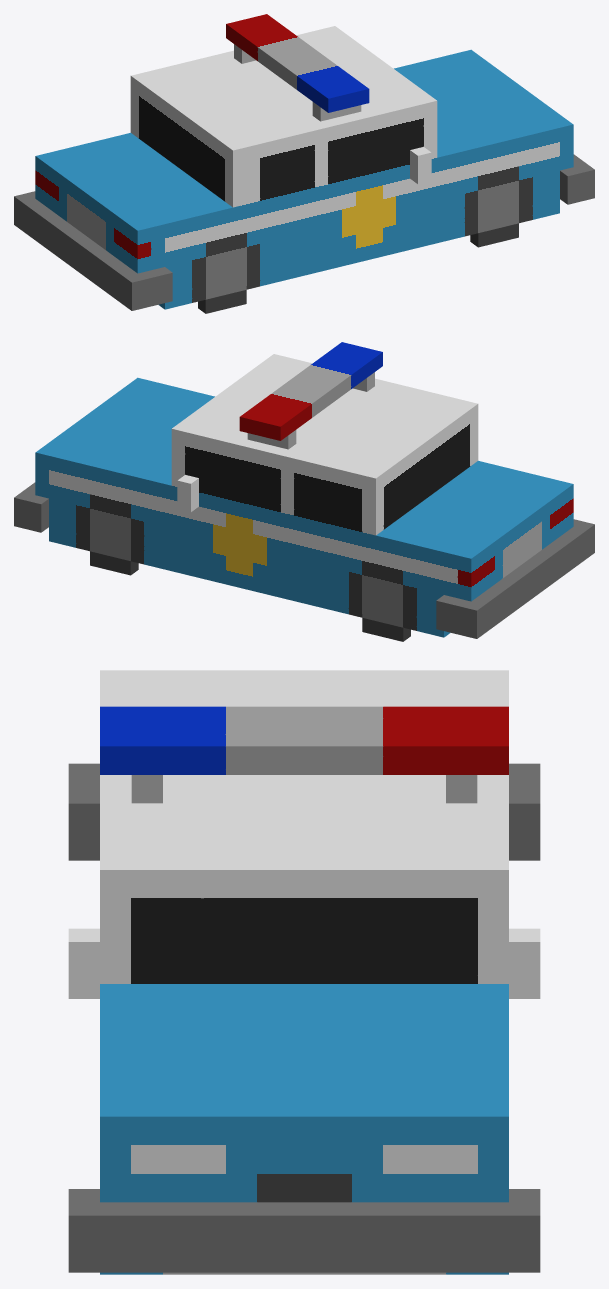
File: veh_police1.fbx
3 renders of one model, top to bottom at view 1: azimuth 30°, elevation 25°; view 2: azimuth 150°, elevation 25°; view 3: azimuth 270°, elevation 25°, orthographic. The views are drawn at different scales.
Visible parts, largest first — view 1: veh_police1; view 2: veh_police1; view 3: veh_police1.
Part boxes in pixels (x1,y1,x2,y2): veh_police1: (14, 14, 594, 313); veh_police1: (14, 342, 594, 641); veh_police1: (68, 670, 540, 1274).
Size of the model in its own units: 3.4 by 1.5 by 1.3.
Materials: 1 (1 with a texture image).
